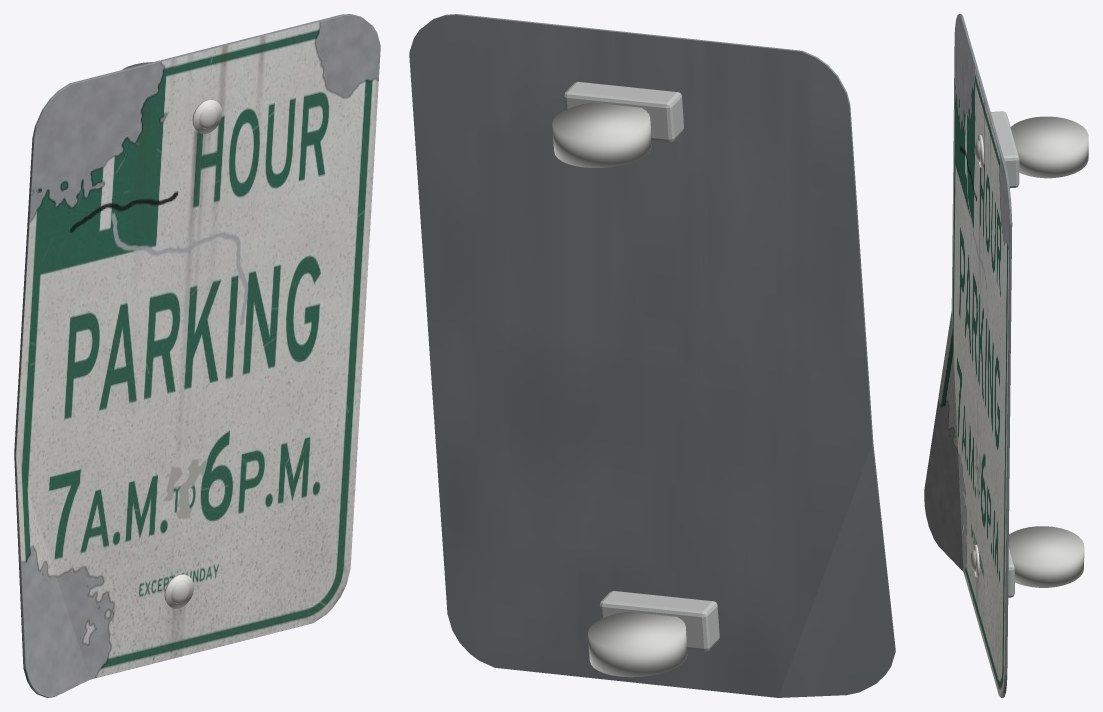
Rendered from timeParking-v1-battered.glb.
3 views of the same model, side by side, from view 1: azimuth 30°, elevation 25°; view 2: azimuth 150°, elevation 25°; view 3: azimuth 270°, elevation 25° (orthographic). The views are drawn at different scales.
Visible parts, largest first — view 1: timeParking-v1-battered; view 2: timeParking-v1-battered; view 3: timeParking-v1-battered.
Boxes of the visible parts, bbox=[...] form: timeParking-v1-battered: bbox=[14, 14, 380, 697]; timeParking-v1-battered: bbox=[409, 14, 895, 697]; timeParking-v1-battered: bbox=[924, 14, 1088, 697].
Bounding box in the file's own units: 0.3218 × 0.4717 × 0.125.
1 material, 1 textured.
